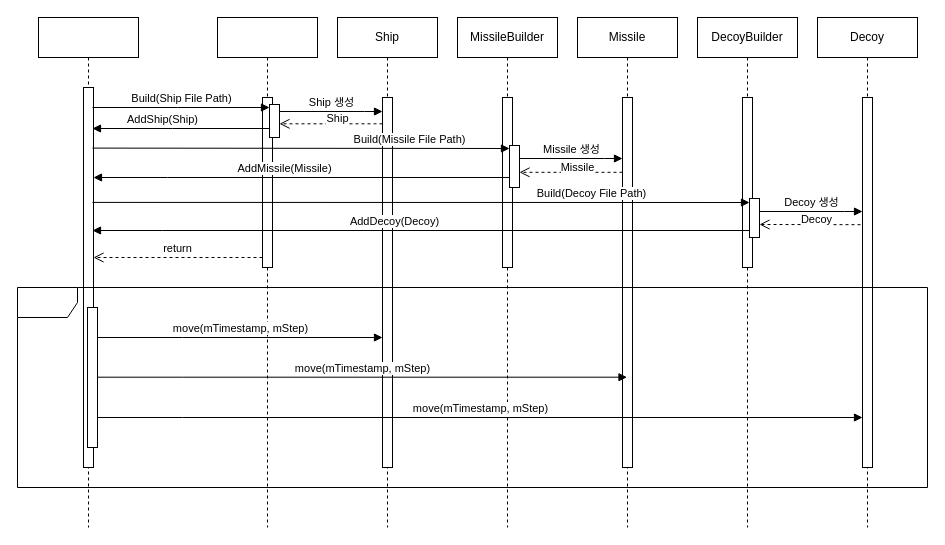
This 945x545 diagram has some shape labels left out. Here are the shapes that lost their labels. From the top down, the centre of each, then its label:
point 88,272: Simulation Manager
point 267,272: ShipBuilder
point 472,387: While
